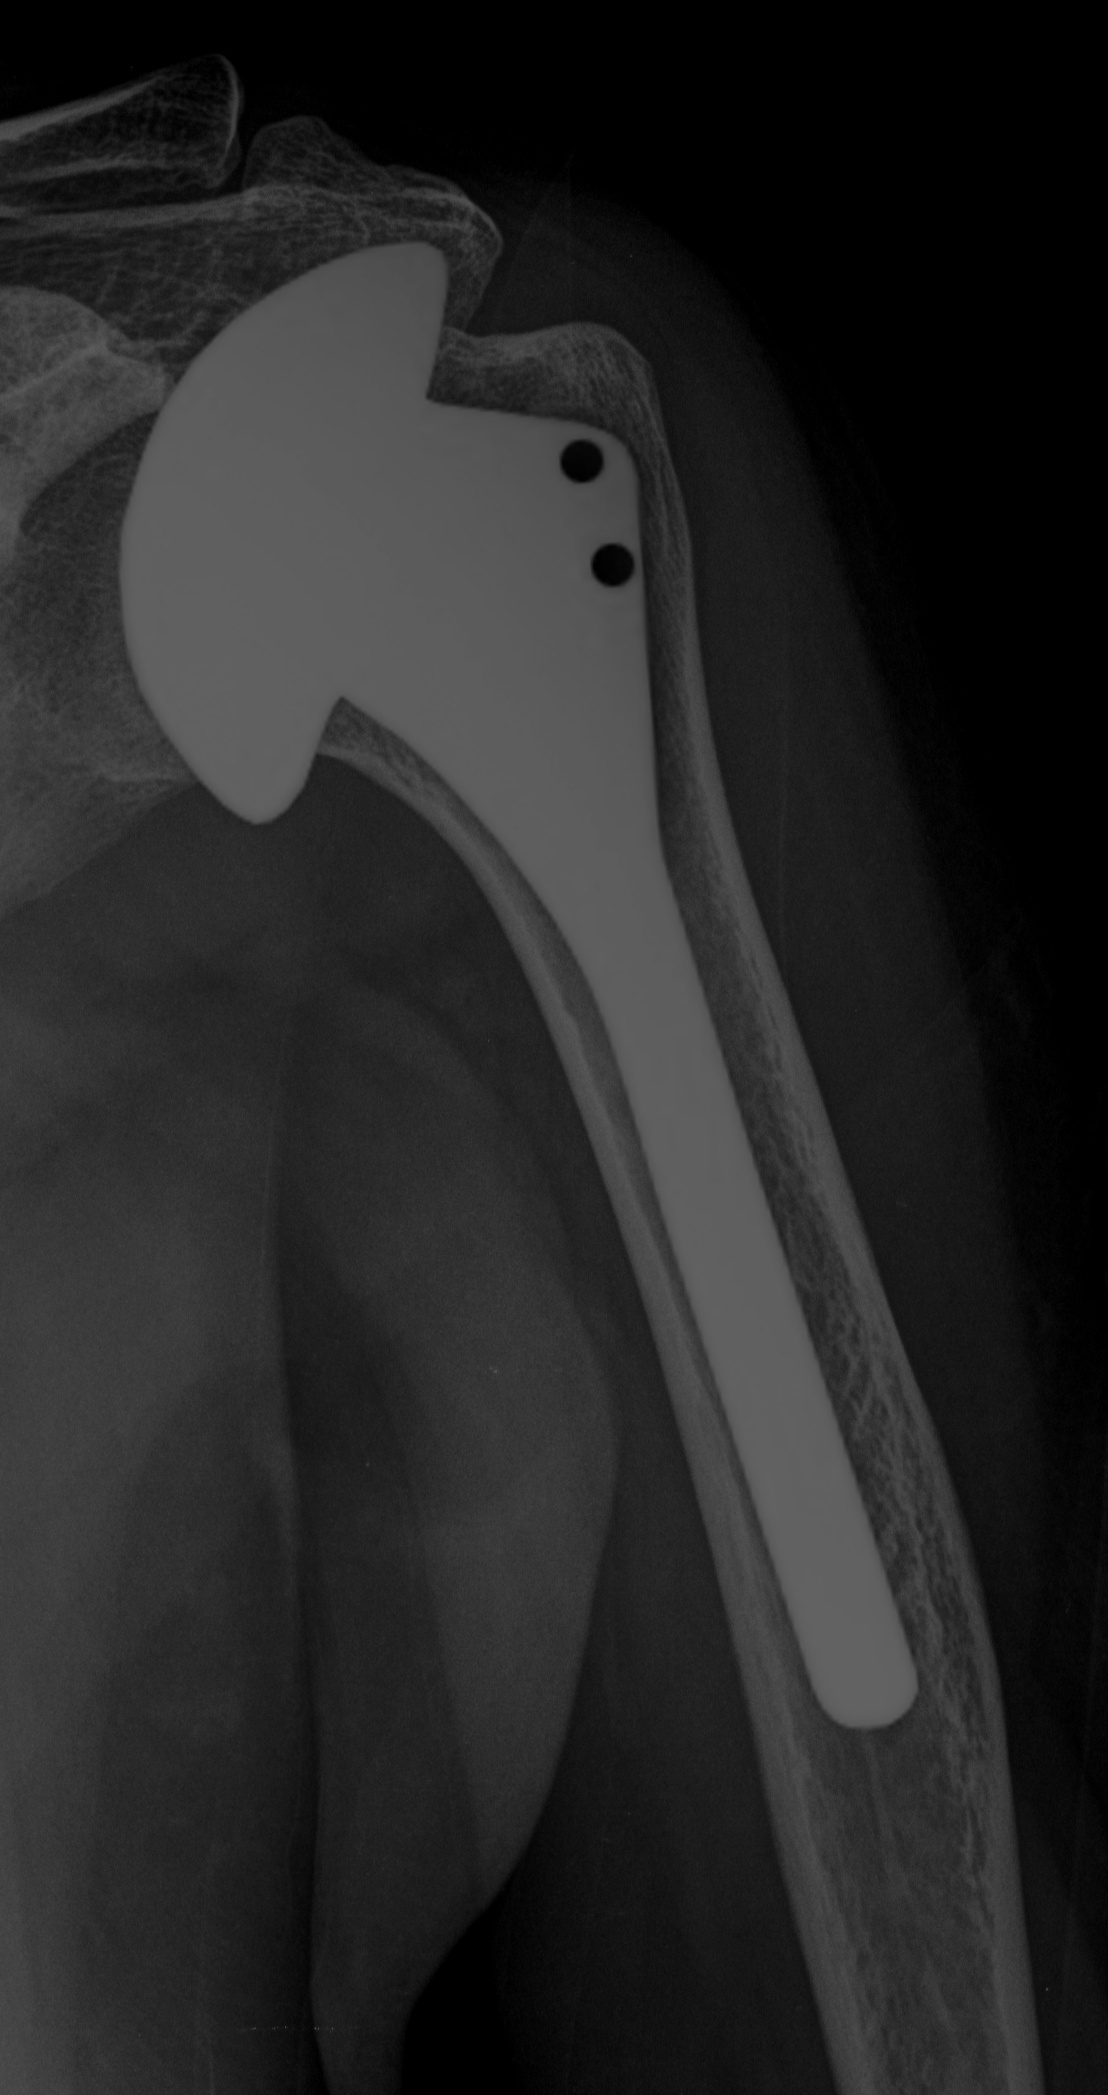Shoulder - Aequalishead - Tornier: (107, 211, 476, 867)
Shoulder - Aequalistail - Tornier: (249, 226, 706, 903)
